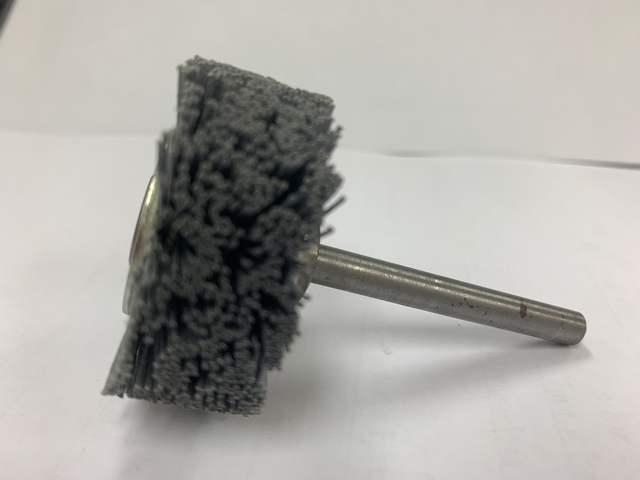Wheel Brush: (87, 59, 603, 405), (92, 41, 431, 480), (136, 85, 588, 388)
